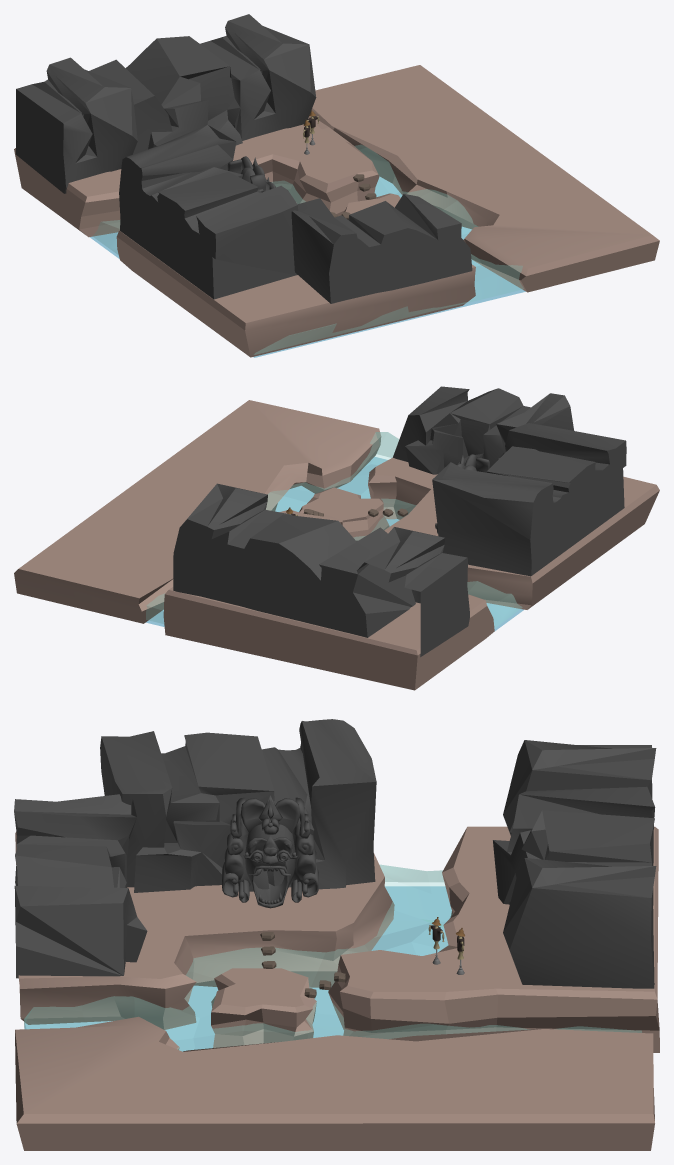
Rendered from Sukma (1).fbx.
The picture shows the model from 3 angles, top to bottom: view 1: azimuth 30°, elevation 25°; view 2: azimuth 150°, elevation 25°; view 3: azimuth 270°, elevation 25°; orthographic projection. The views are drawn at different scales.
Parts seen in each view (by area): view 1: Land 3, Cliff 3, Cliff 1, Land, Cliff 2, Land 2, Water, Base, Statue, Land 4; view 2: Land 3, Cliff 3, Cliff 1, Land 2, Land, Cliff 2, Water, Land 4, Base; view 3: Land 3, Cliff 3, Cliff 1, Land 2, Land, Cliff 2, Water, Statue, Land 4, Base.
Part boxes in pixels (x1=…): Land 3: x1=311, y1=65, x2=659, y2=292; Cliff 3: x1=16, y1=14, x2=316, y2=193; Cliff 1: x1=119, y1=124, x2=298, y2=299; Land: x1=116, y1=230, x2=475, y2=357; Cliff 2: x1=291, y1=194, x2=472, y2=303; Land 2: x1=14, y1=116, x2=379, y2=237; Water: x1=93, y1=145, x2=523, y2=354; Base: x1=89, y1=176, x2=525, y2=357; Statue: x1=227, y1=156, x2=275, y2=192; Land 4: x1=344, y1=193, x2=400, y2=213; Land 3: x1=14, y1=400, x2=381, y2=623; Cliff 3: x1=173, y1=483, x2=469, y2=657; Cliff 1: x1=432, y1=423, x2=626, y2=576; Land 2: x1=163, y1=510, x2=494, y2=690; Land: x1=368, y1=457, x2=659, y2=609; Cliff 2: x1=393, y1=386, x2=574, y2=474; Water: x1=146, y1=432, x2=522, y2=627; Land 4: x1=299, y1=487, x2=389, y2=540; Base: x1=146, y1=456, x2=523, y2=631; Land 3: x1=15, y1=1016, x2=654, y2=1150; Cliff 3: x1=493, y1=740, x2=656, y2=988; Cliff 1: x1=100, y1=719, x2=376, y2=892; Land 2: x1=328, y1=826, x2=659, y2=1052; Land: x1=15, y1=832, x2=394, y2=1029; Cliff 2: x1=14, y1=794, x2=147, y2=978; Water: x1=24, y1=864, x2=641, y2=1051; Statue: x1=222, y1=795, x2=318, y2=908; Land 4: x1=211, y1=968, x2=316, y2=1047; Base: x1=24, y1=886, x2=451, y2=1051.
Bounding box in the file's own units: 4054 × 1164 × 4032.
